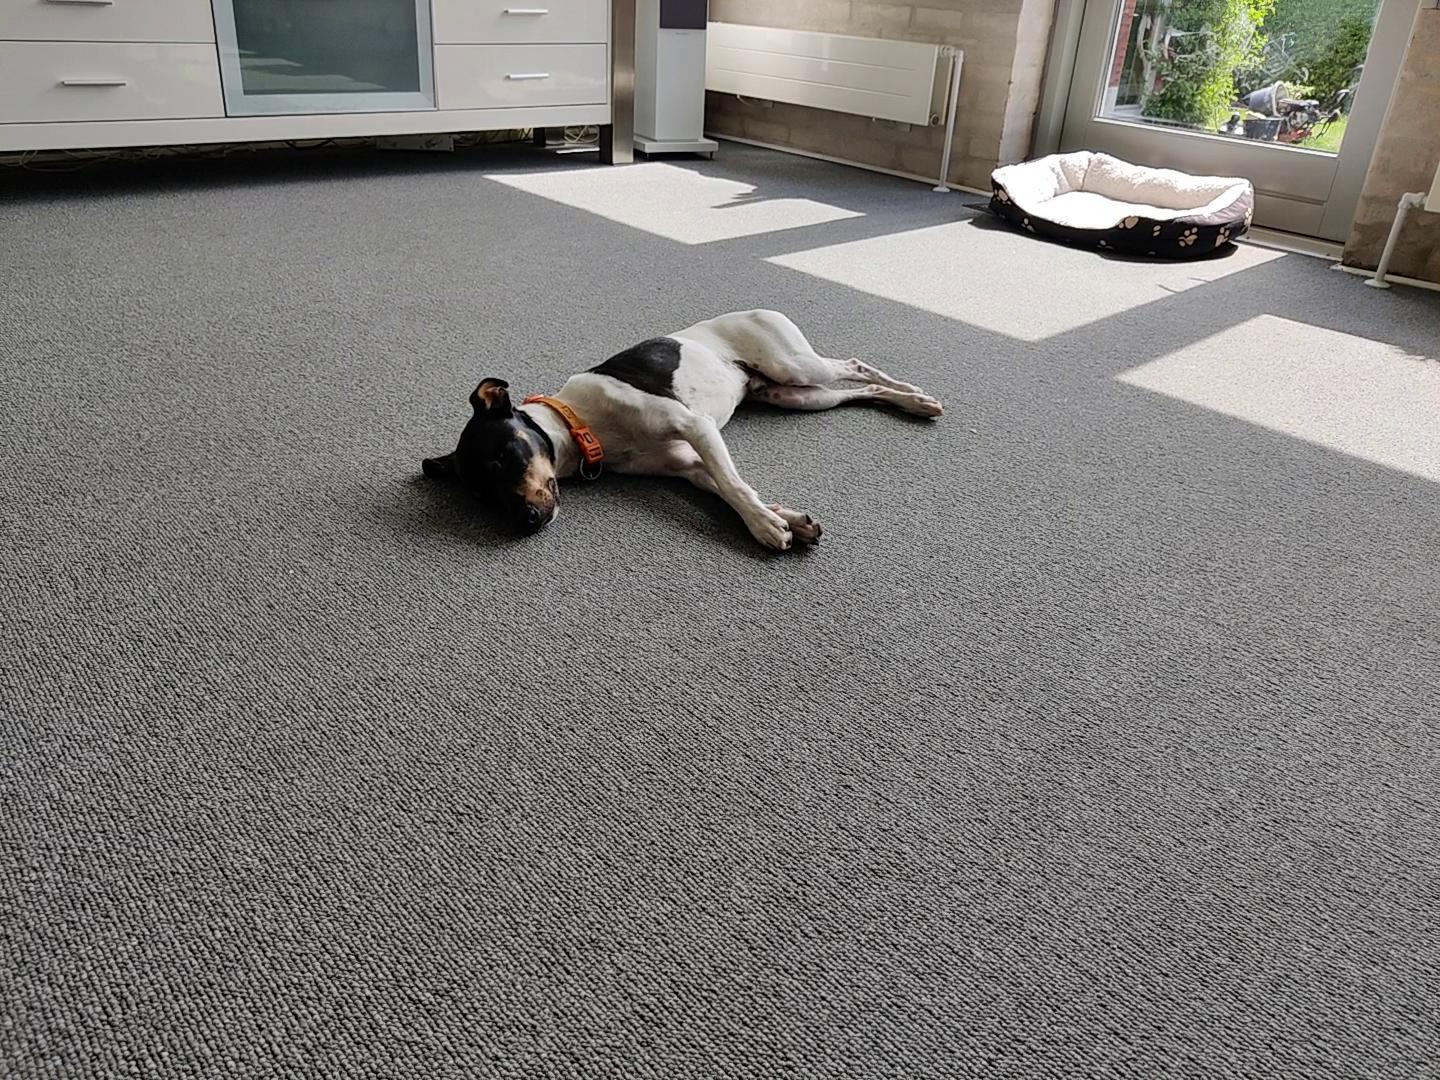Dog: (410, 305, 945, 565)
